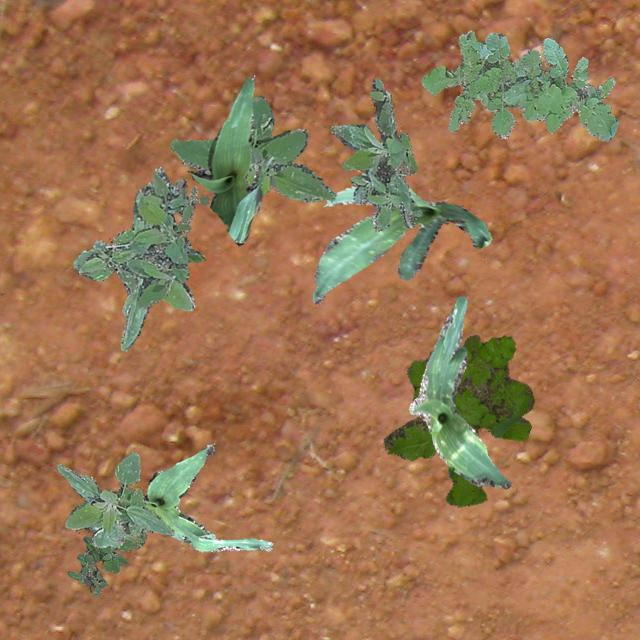crop: (312, 185, 490, 302), (408, 294, 510, 488), (186, 76, 272, 244), (144, 444, 272, 552), (56, 450, 172, 548)
weed: (382, 334, 534, 506), (420, 29, 618, 140), (72, 182, 194, 350), (76, 166, 205, 306), (168, 96, 334, 200), (330, 78, 420, 230), (66, 530, 146, 596), (172, 186, 208, 248)
